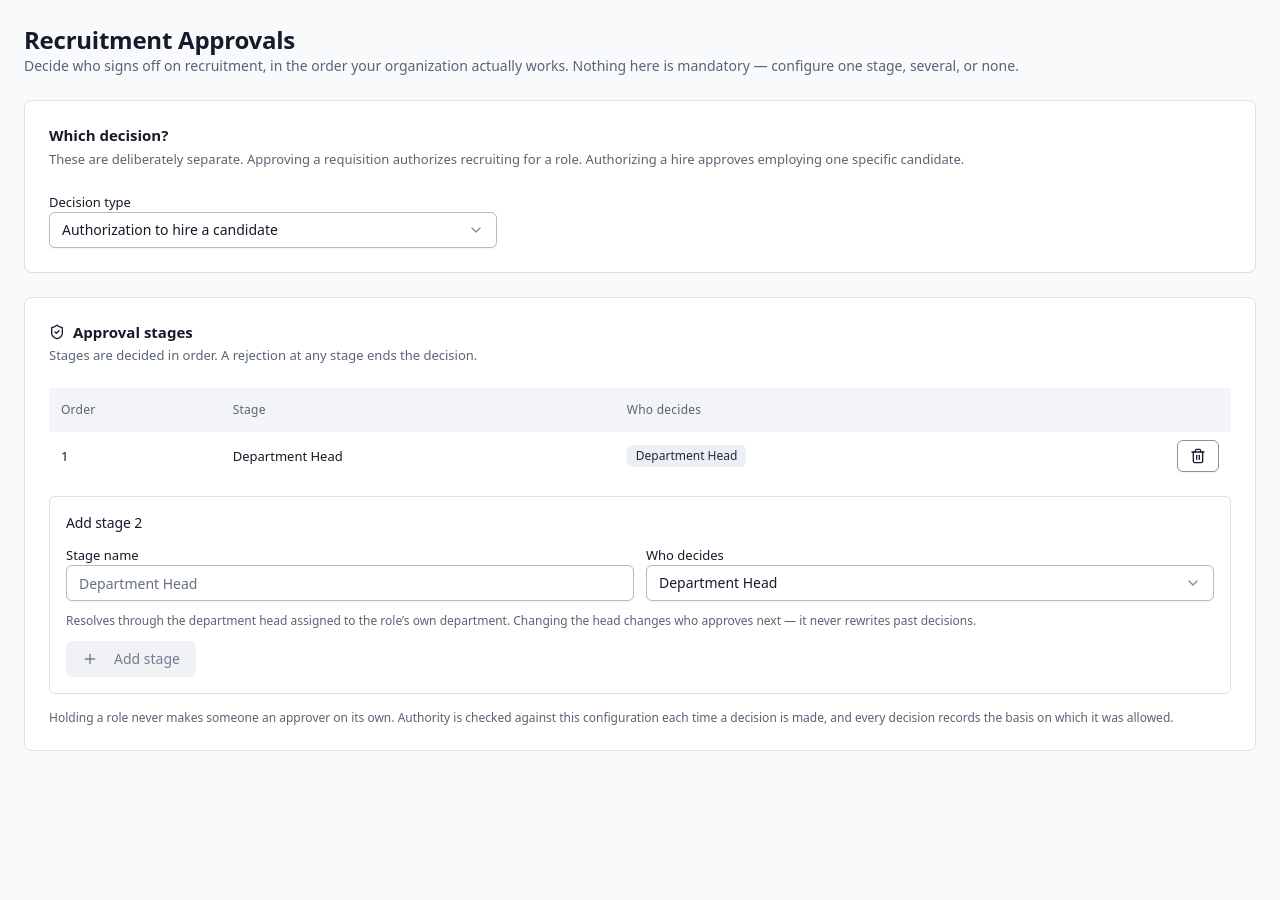
it: Recruitment Approvals configuration — remove stage › opens a confirmation instead of deleting on click, and Cancel deletes nothing
This screenshot has width=1280, height=900.
Click the button with test id "button-remove-stage-1" at (1198, 456), box [1177,440,1219,472]
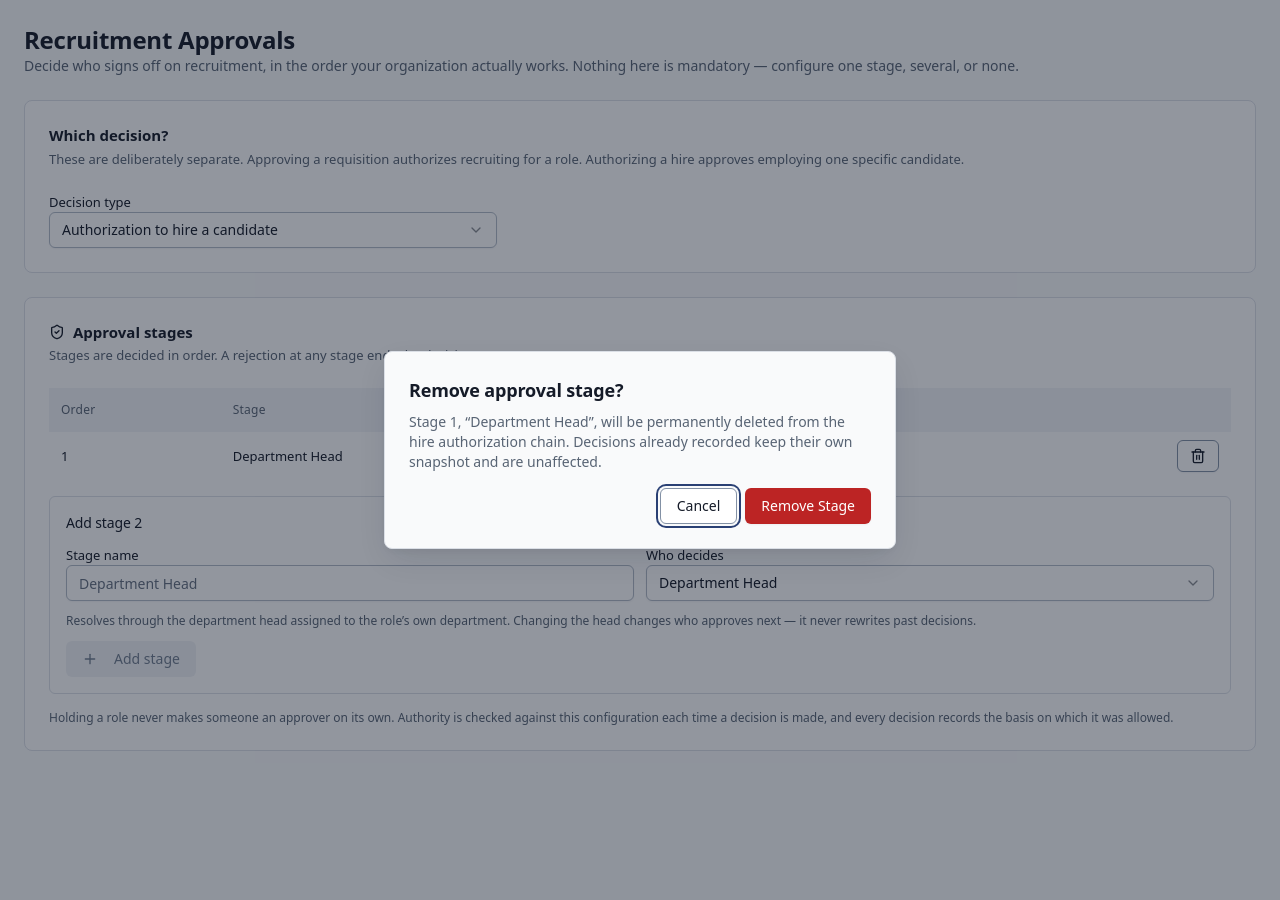
Check: the dialog with test id "dialog-remove-approval-stage" shows "Remove approval stage?", box [409,378,623,402]
Check: the dialog with test id "dialog-remove-approval-stage" shows "“Department Head”, will be permanently deleted from the hire authorization chain", box [384,351,896,549]
Click the button with test id "dialog-remove-approval-stage-cancel" at (699, 506), box [660,488,737,524]
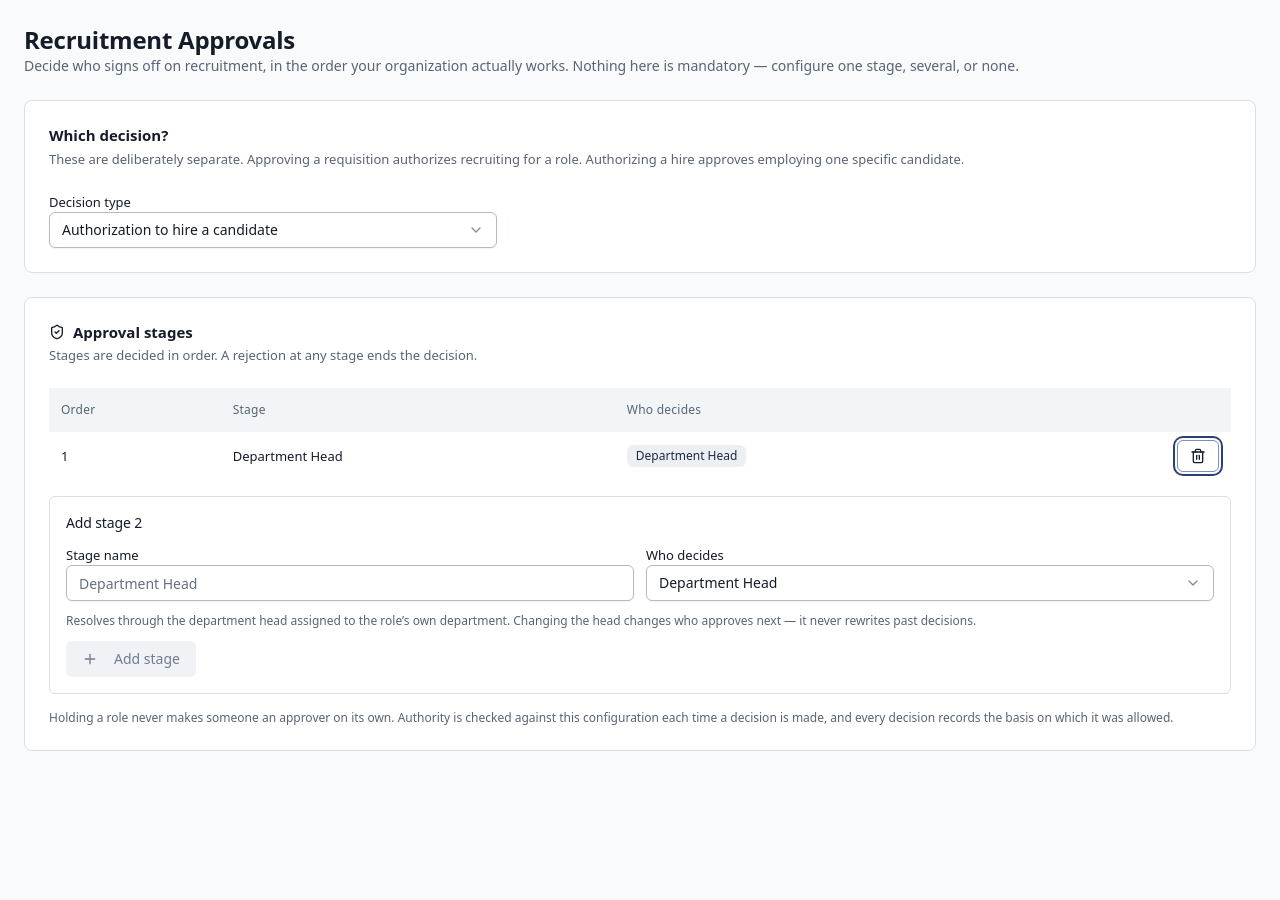
Check: the dialog with test id "dialog-remove-approval-stage" is gone
